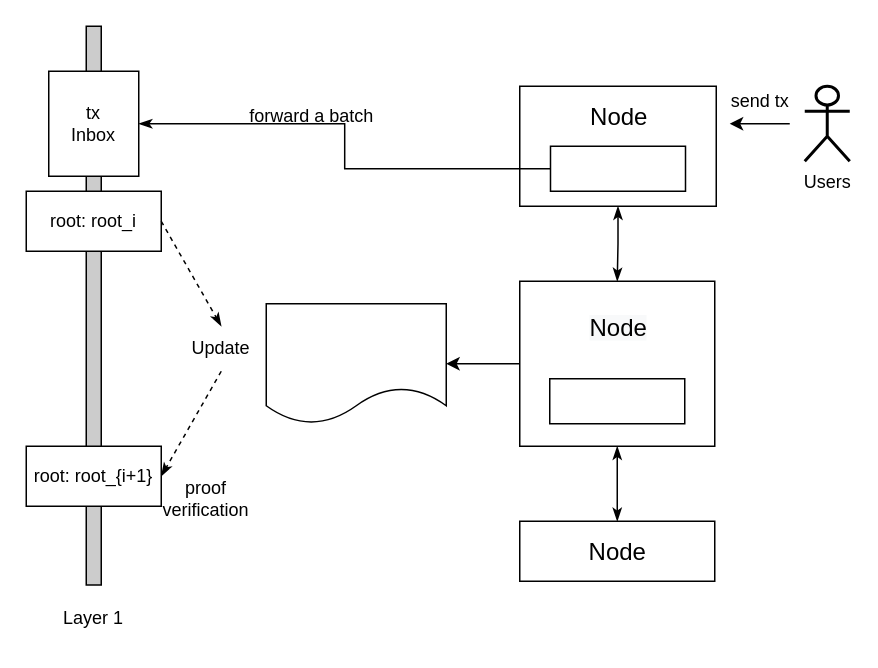
Image size: 878x668. Some labels were removed from this diagram. The centre of each missing label's shape, as x and y in pixels:
Proof of transaction tx1, tx2, ..., txn, change root_i to root_{i+1}: the point at 355,363
Prover: the point at 616,400
Sequencer: the point at 617,168
